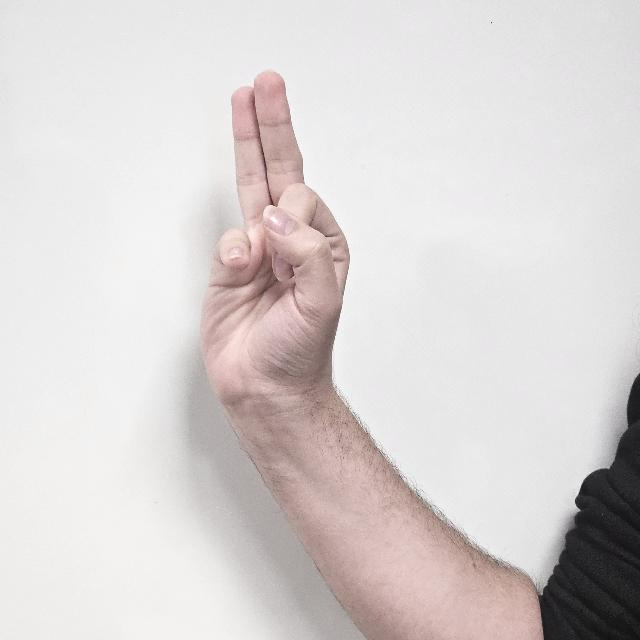R: (200, 74, 348, 453)
